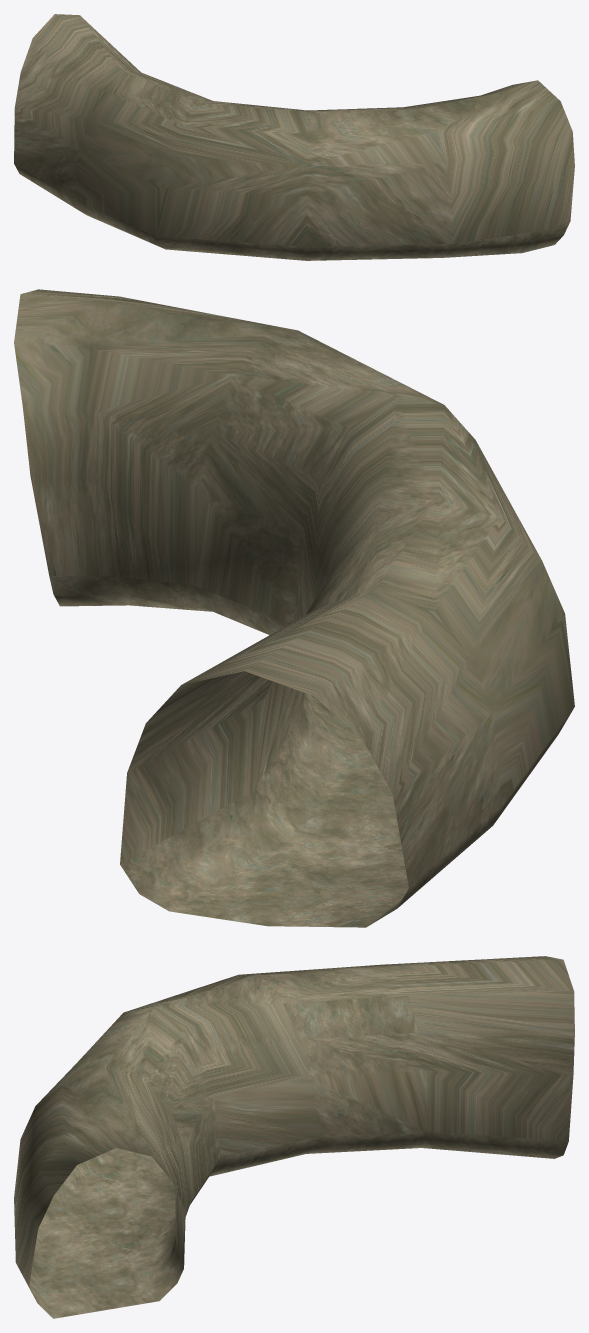
File: OVERHILL_A_01_TRES_EXIT_CAVE01.fbx
3 views of the same model, one above another, from view 1: azimuth 30°, elevation 25°; view 2: azimuth 150°, elevation 25°; view 3: azimuth 270°, elevation 25° (orthographic). The views are drawn at different scales.
Parts seen in each view (by area): view 1: OVERHILL_A_01_TRES_EXIT_CAVE01; view 2: OVERHILL_A_01_TRES_EXIT_CAVE01; view 3: OVERHILL_A_01_TRES_EXIT_CAVE01.
Boxes of the visible parts, bbox=[...] form: OVERHILL_A_01_TRES_EXIT_CAVE01: bbox=[14, 14, 574, 260]; OVERHILL_A_01_TRES_EXIT_CAVE01: bbox=[14, 289, 574, 927]; OVERHILL_A_01_TRES_EXIT_CAVE01: bbox=[14, 956, 574, 1318].
Size of the model in its own units: 88587 by 34627 by 93651.
1 material, 1 textured.
